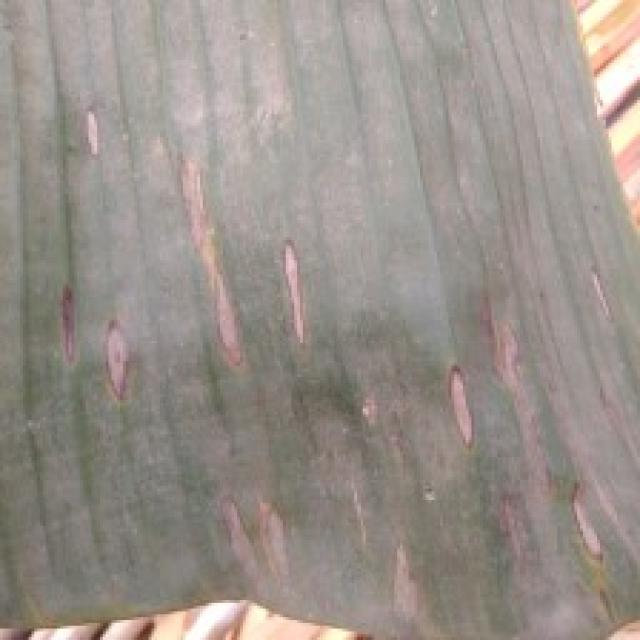Early_leaf_spot: (169, 137, 276, 379), (468, 289, 558, 488), (196, 470, 314, 598), (47, 248, 136, 403), (554, 436, 630, 588), (272, 217, 332, 368), (416, 346, 484, 459), (372, 517, 430, 622), (72, 89, 118, 192), (575, 250, 619, 343), (348, 375, 387, 450)
